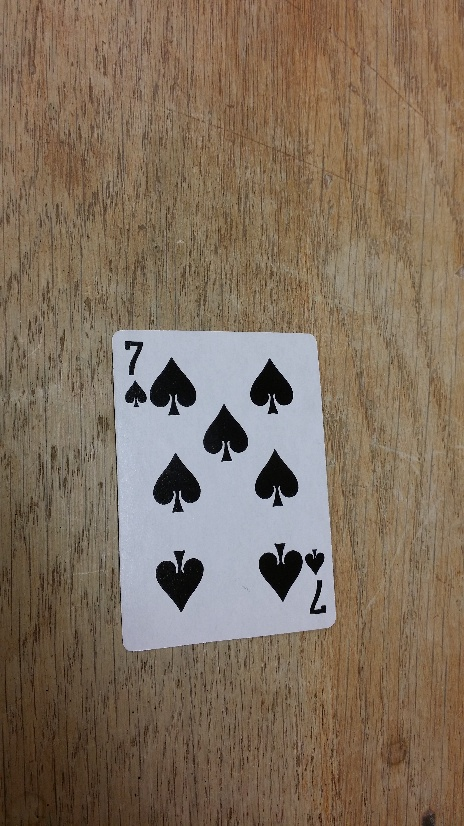S7: (120, 335, 148, 414), (304, 545, 331, 622)
